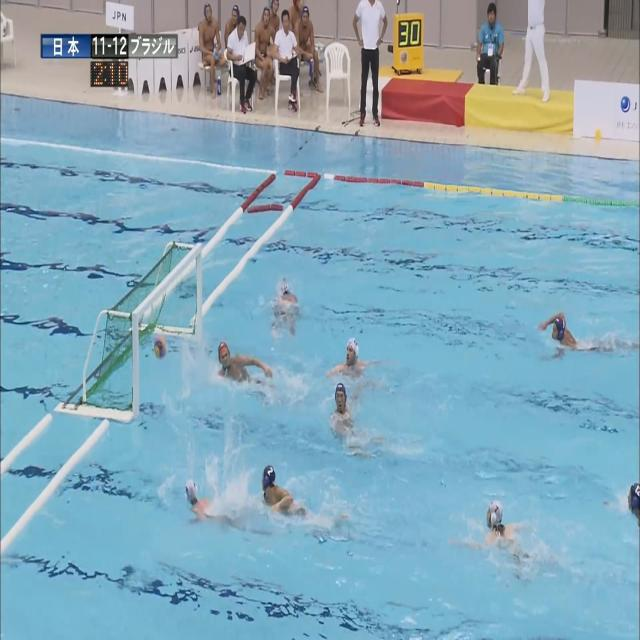ball: (154, 335, 167, 358)
